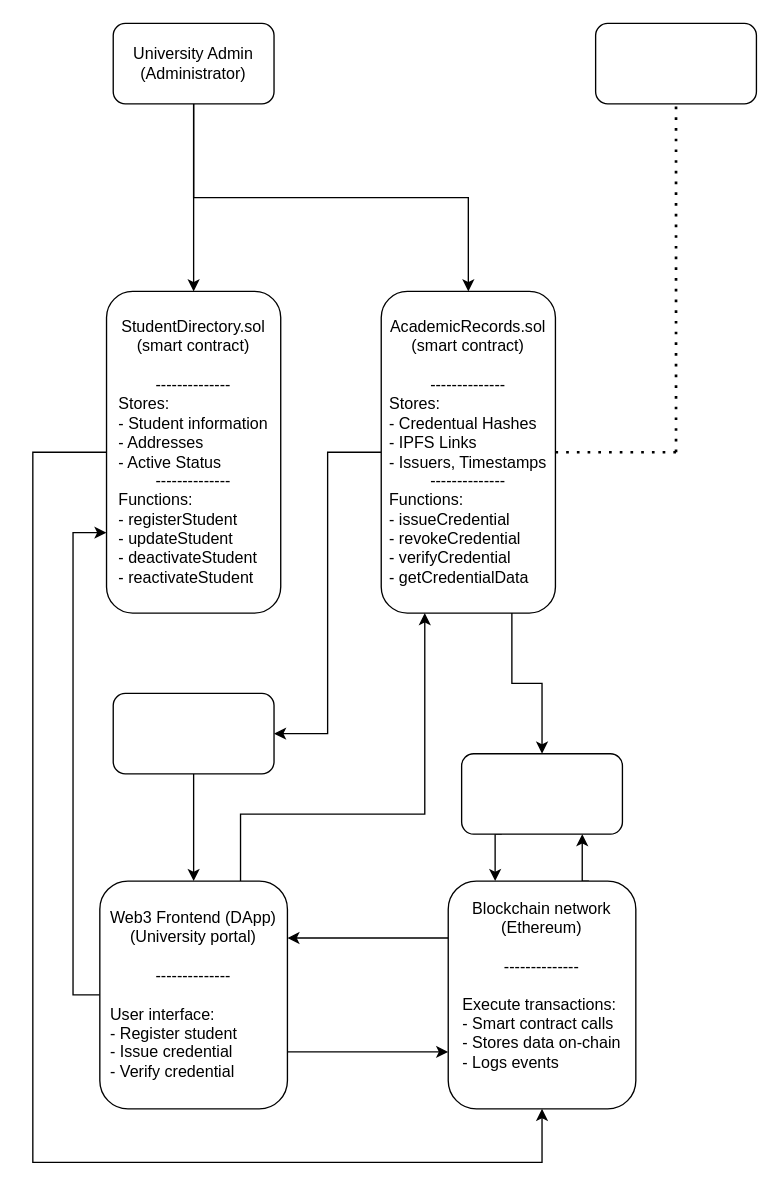
Image size: 780x1197. Some labels were removed from this diagram. The shapes that lost their labels are listed below. From the top down, each one's centre as x and y in pixels, then its label:
(675,63): External Verifier (Employer/Institution)
(193,733): Student (Ethereum address)
(541,793): IPFS (off-chain) Stores full records
